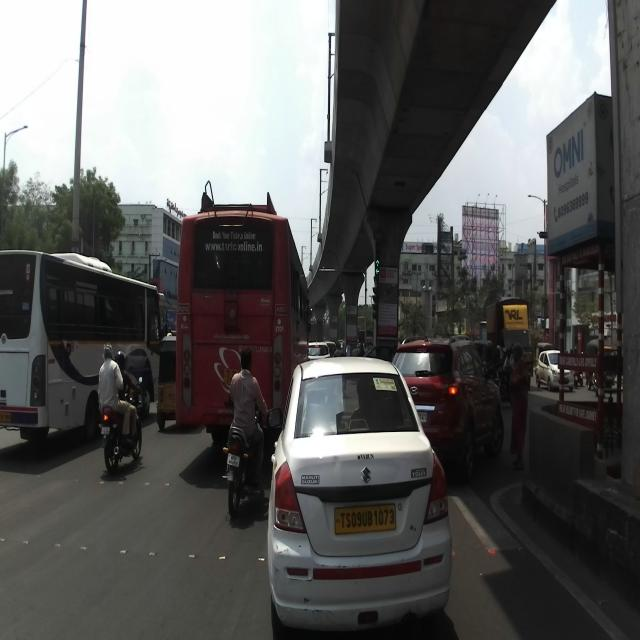Car_Hyundai: (392, 332, 504, 482)
Car_Maruti-Suzuki: (268, 355, 452, 638)
bus: (174, 177, 312, 443), (0, 248, 168, 450)
motorcycle_Hero: (221, 400, 269, 518), (98, 373, 144, 475)
